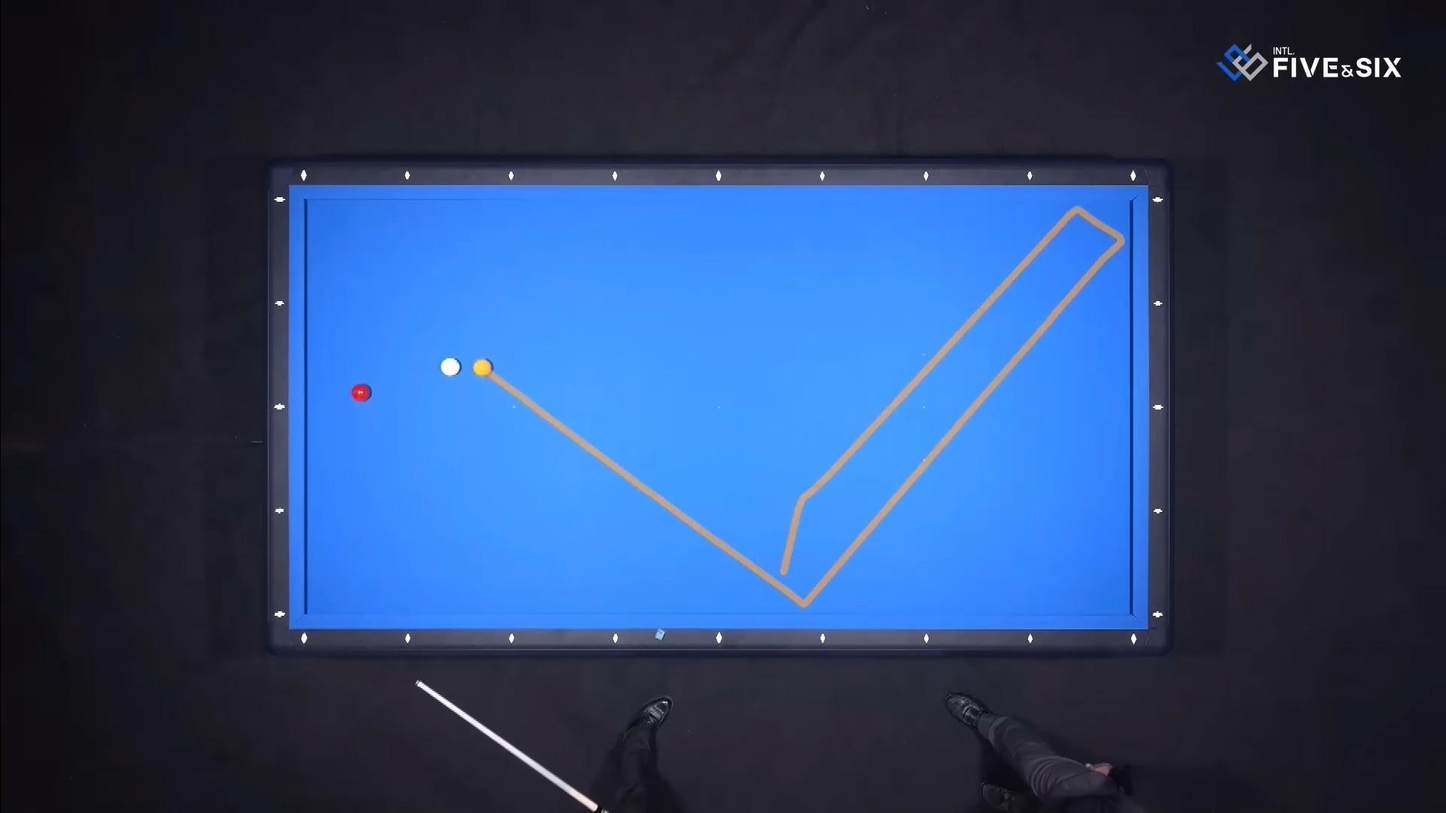Red: (352, 385, 376, 404)
White: (435, 358, 461, 379)
Yellow: (472, 358, 496, 378)
